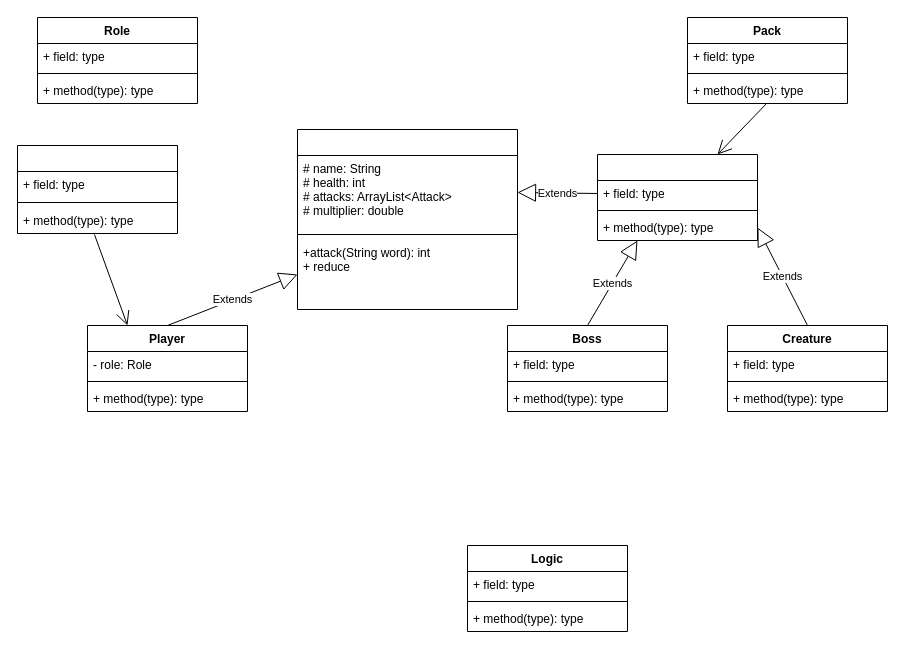
The diagram is 905 pixels wide and 652 high, and some of its shapes have lost their labels. The shapes that lost their labels are listed below. From the top down, each one's box as (x1, y1, x2, y2) in pixels, then its label:
(16, 144, 178, 234): Team
(596, 154, 758, 240): Enemy
(296, 128, 518, 310): Entity
